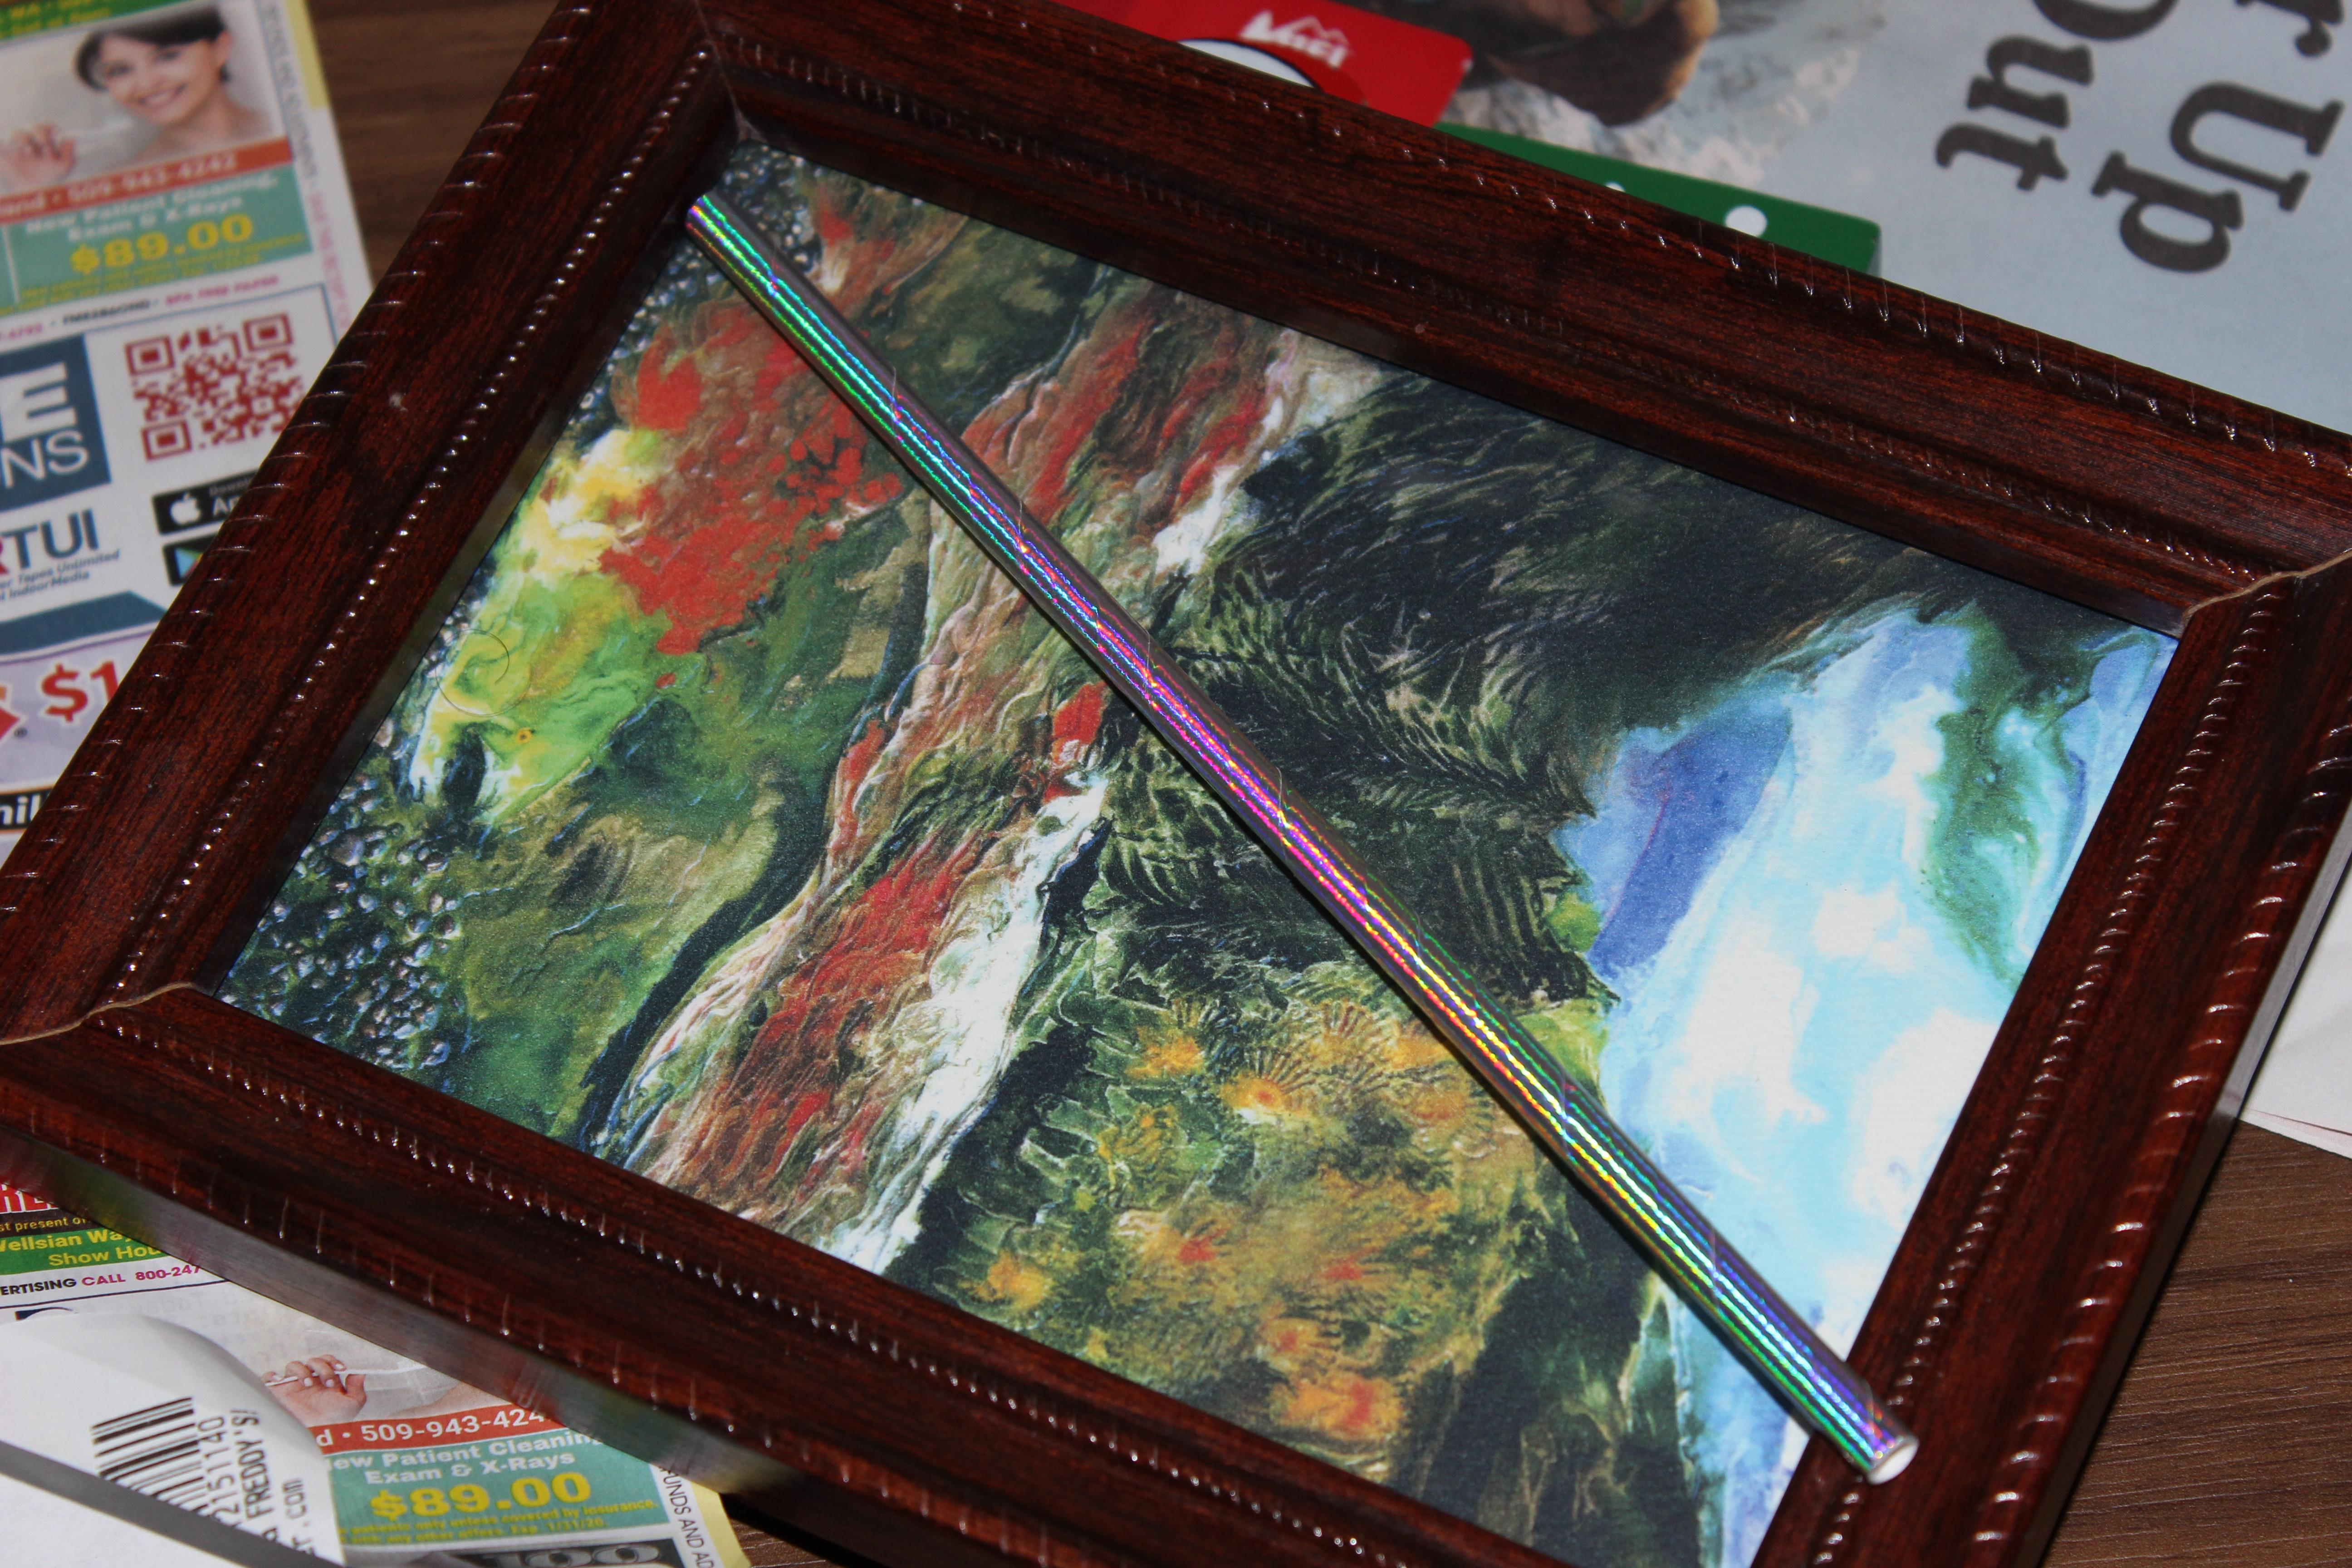silverStraw: (651, 164, 1962, 1512)
